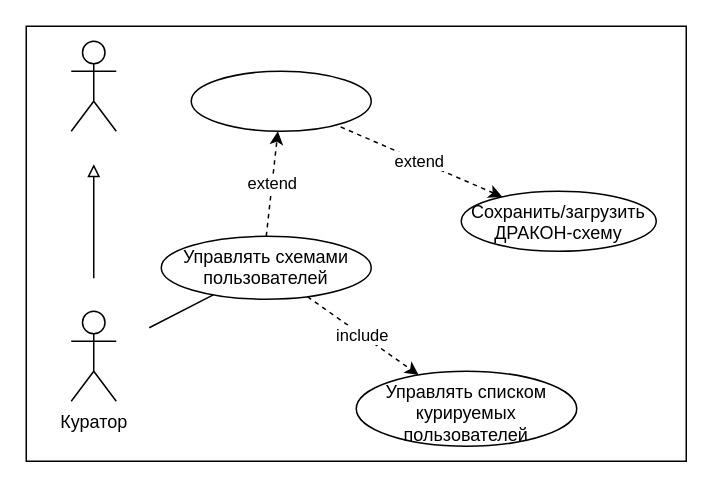
This 713x488 diagram has some shape labels left out. Here are the shapes that lost their labels. From the top down, the centre of each, then its label:
(x=93, y=85): Пользователь
(x=280, y=100): Редактировать ДРАКОН-схему
